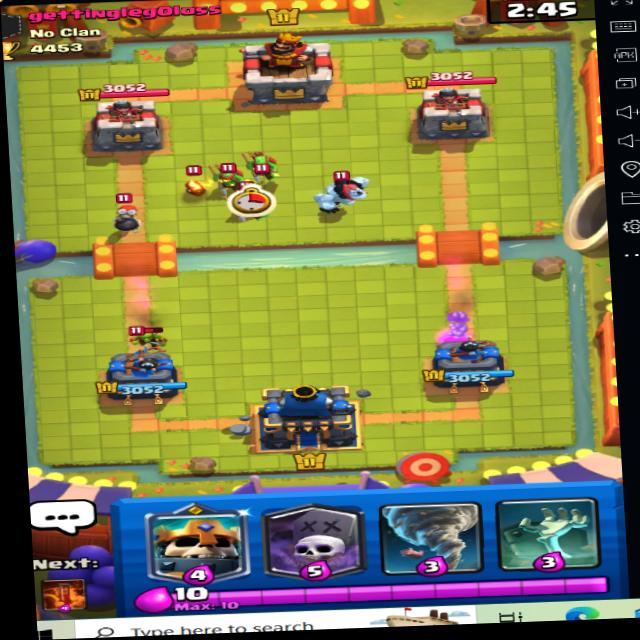Bomber: (89, 201, 152, 237)
Firespirit: (170, 166, 206, 204)
Goblin: (121, 320, 177, 350)
Icegolem: (316, 165, 383, 212)
Speargoblin: (246, 145, 277, 175), (212, 162, 248, 186)
